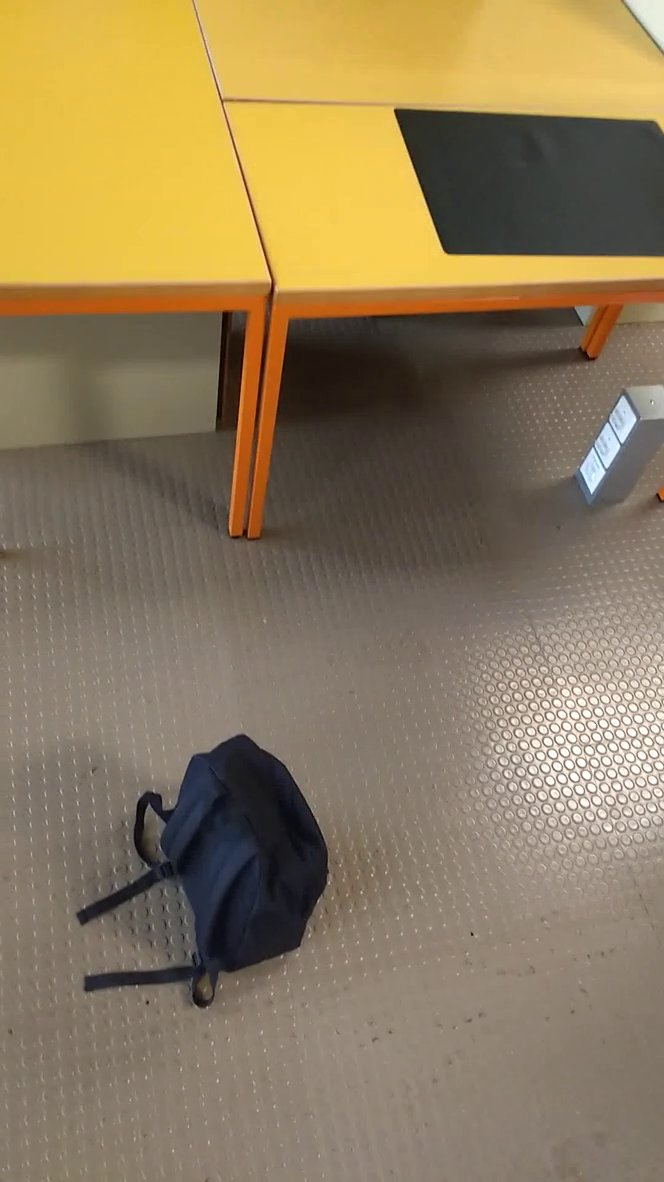bag: (70, 724, 350, 1012)
